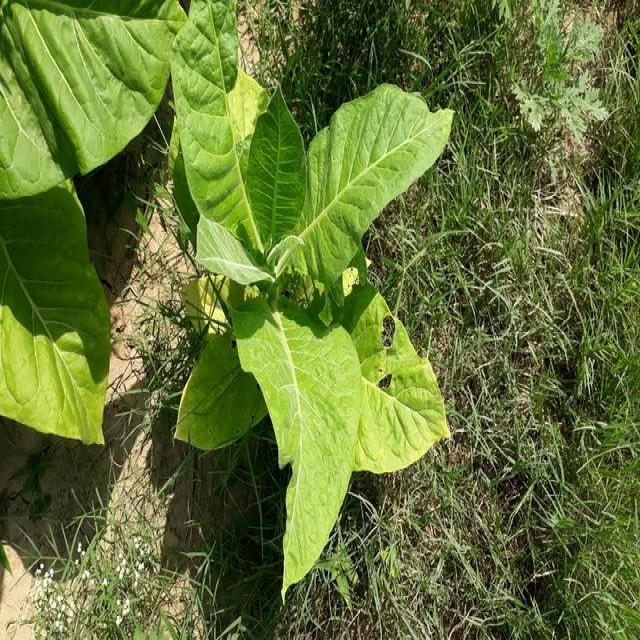crop: (171, 1, 456, 606)
